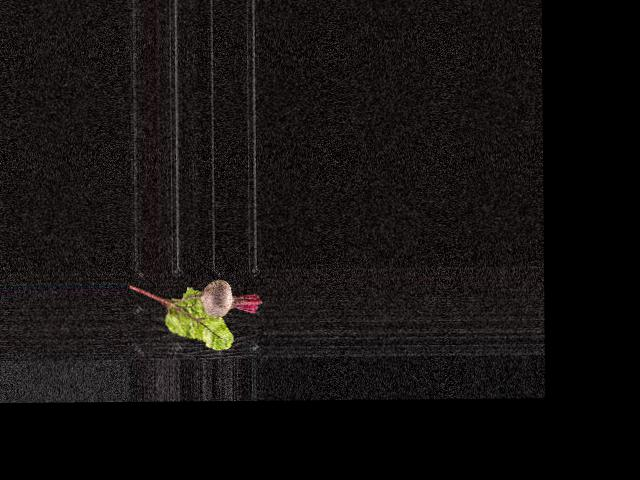beet: (166, 279, 263, 318)
